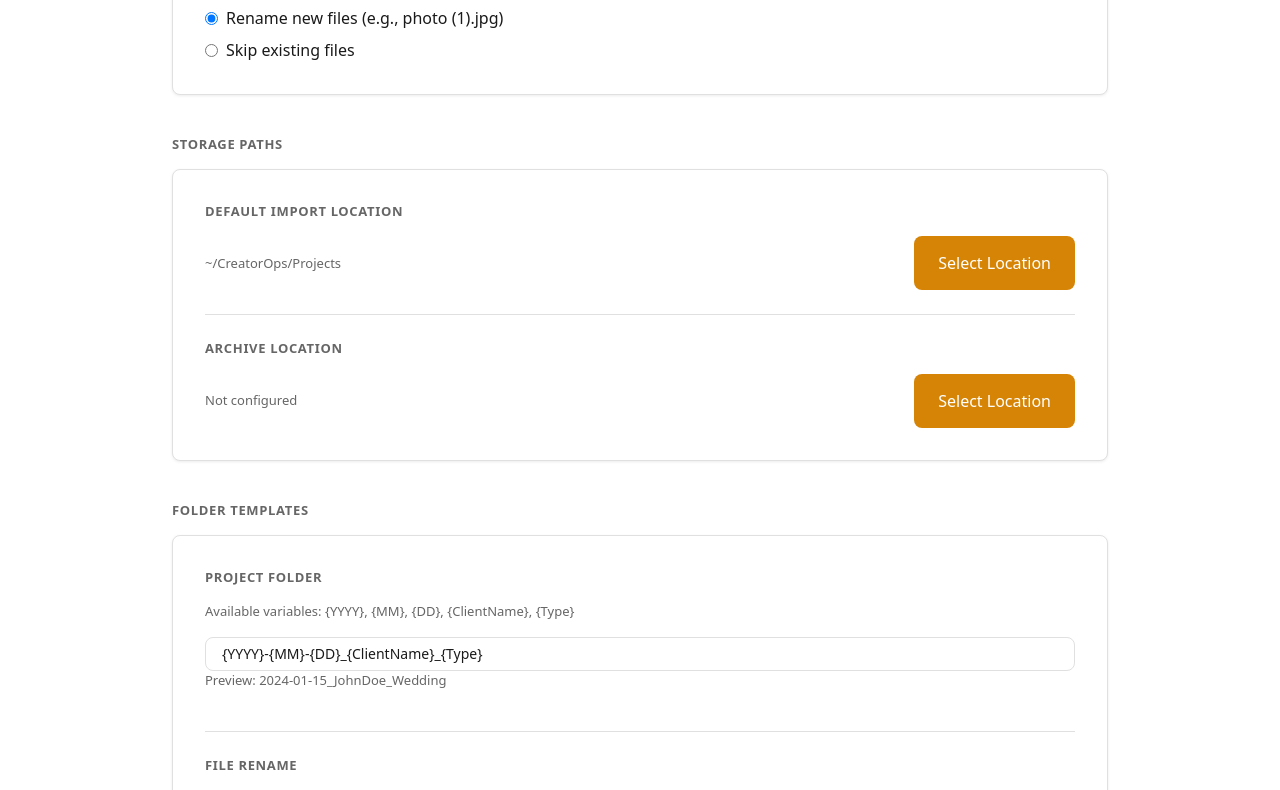
Test case: settings › selects archive location
(page scrolled)
Click the button "Select Location" in the row of "Not configured": (995, 401) [914,374,1075,428]
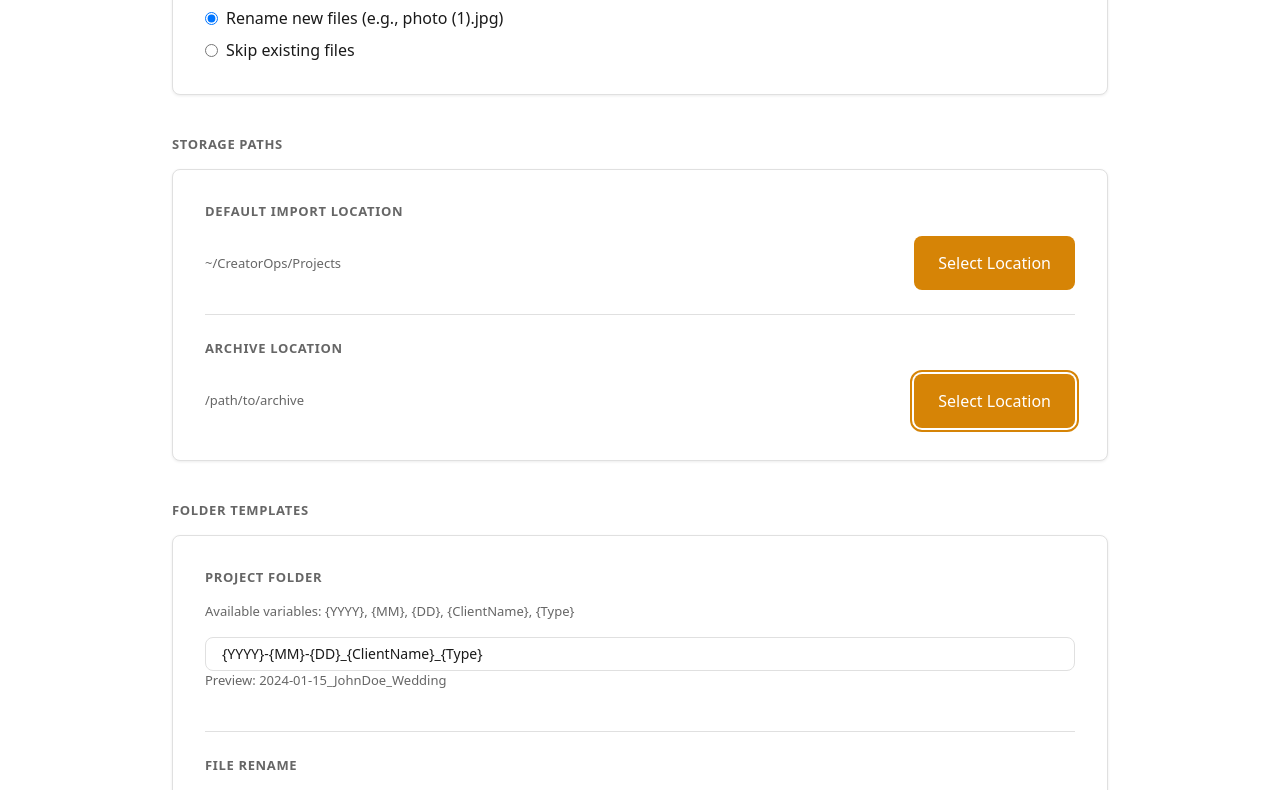
expect the text "/path/to/archive" is shown: met, box [205,391,304,410]
